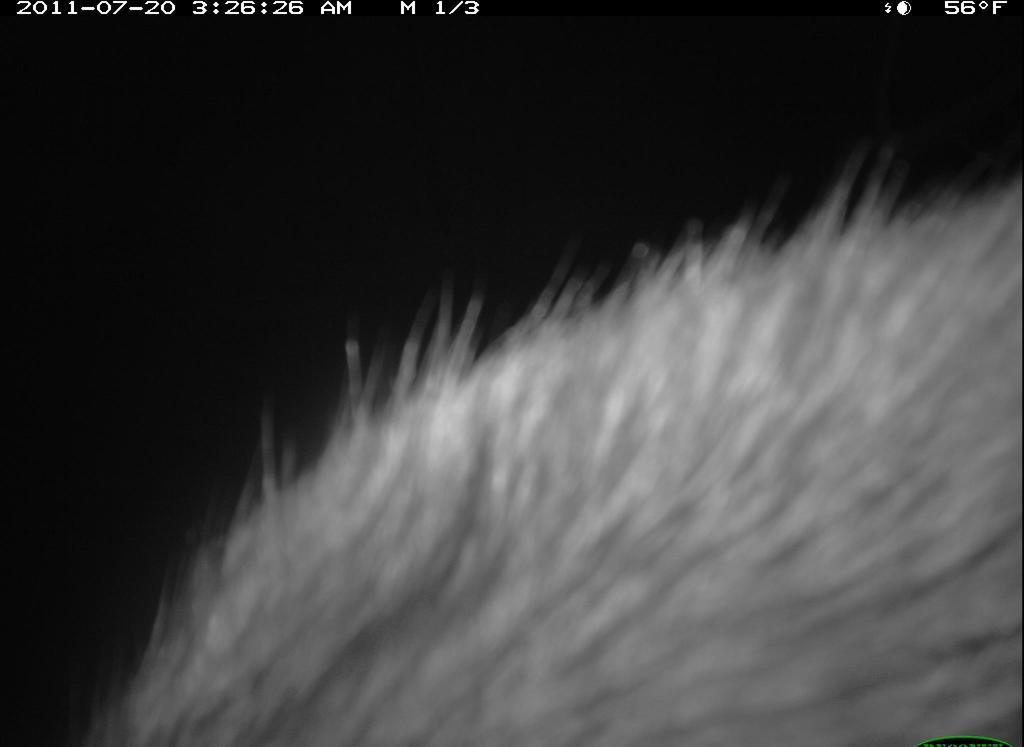raccoon: (90, 145, 1022, 740)
